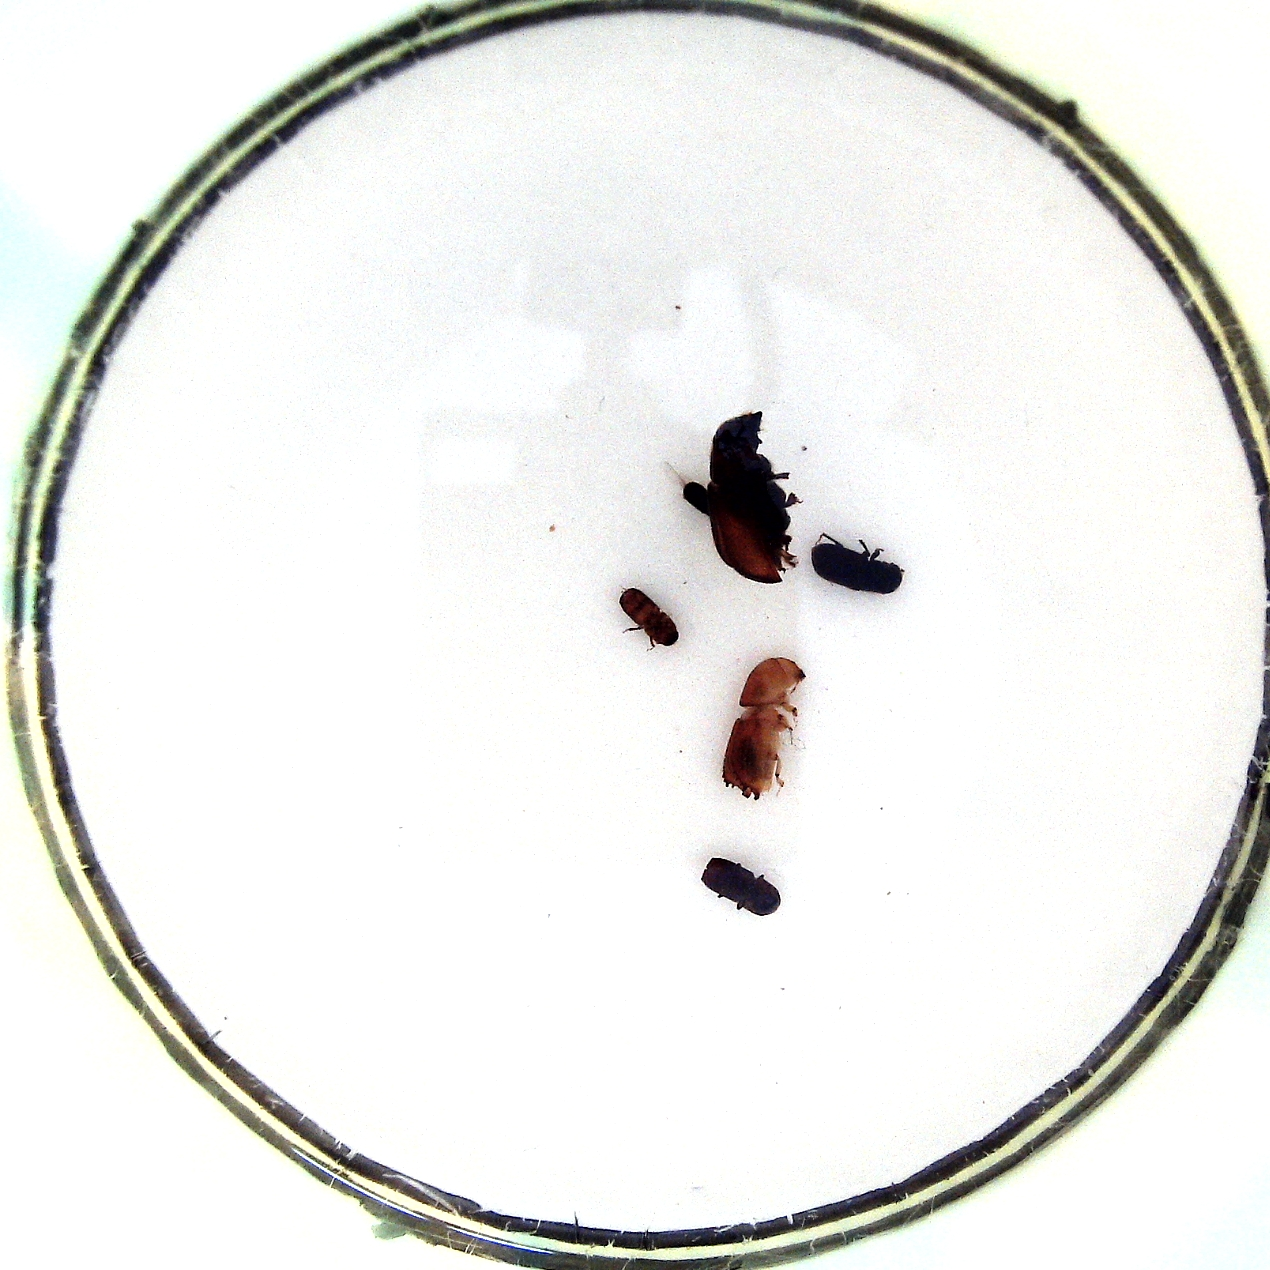Boerner: (718, 659, 805, 808)
Leconte: (708, 395, 802, 593)
Linnaeus: (700, 852, 790, 916)
acuminatus: (615, 590, 680, 656)
armandi: (808, 529, 907, 598)
